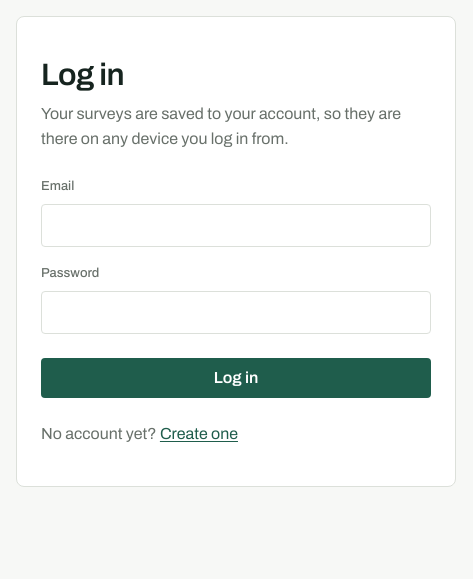
Test: the account pages › shows the server’s refusal and gives the button back
Type "rahma@example.com" into the field labelled "Email".
click(236, 225); type("rahma@example.com")  # box [41,204,431,247]
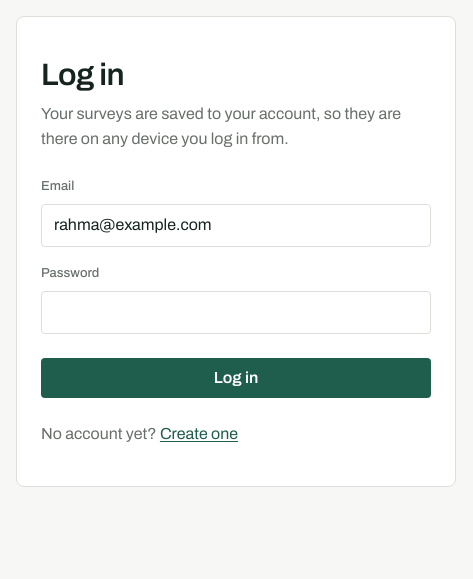
Type "wrong password" into the password field labelled "Password".
click(236, 312); type("wrong password")  # box [41,291,431,334]
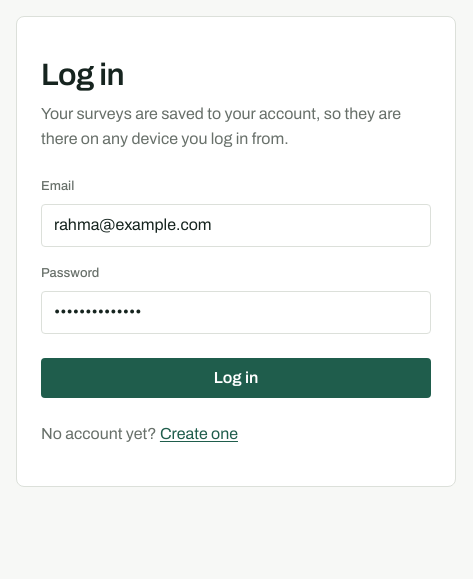
Click the button "Log in".
click(236, 378)  # box [41,358,431,398]
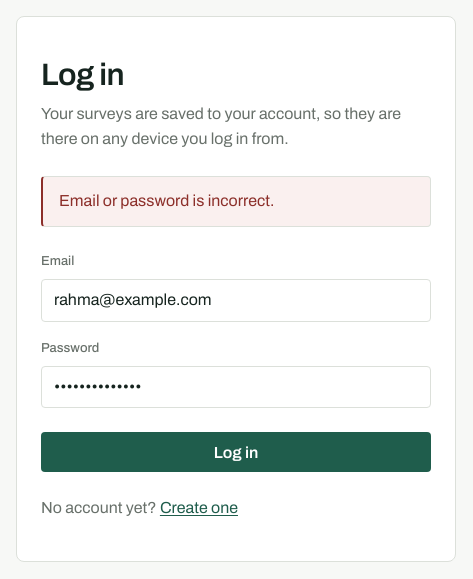
expect the button "Log in" is enabled: met, box [41,432,431,472]
expect the message reads "Email or password is incorrect.": met, box [59,192,274,209]
